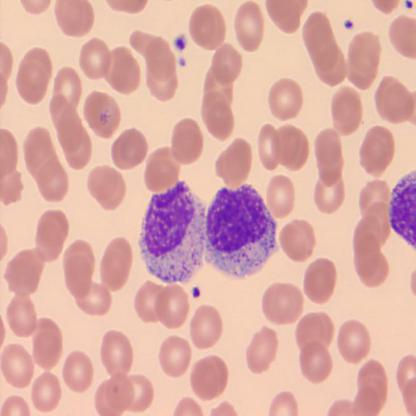Metamyelocyte: (138, 176, 209, 286), (203, 183, 282, 281)
